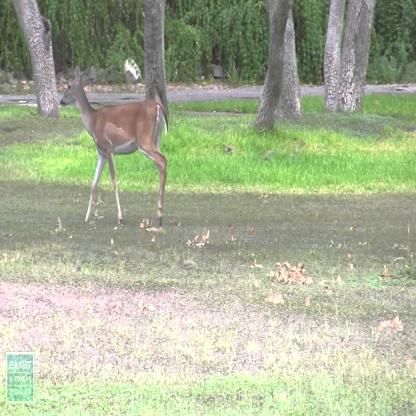Deer: (59, 62, 170, 226)
